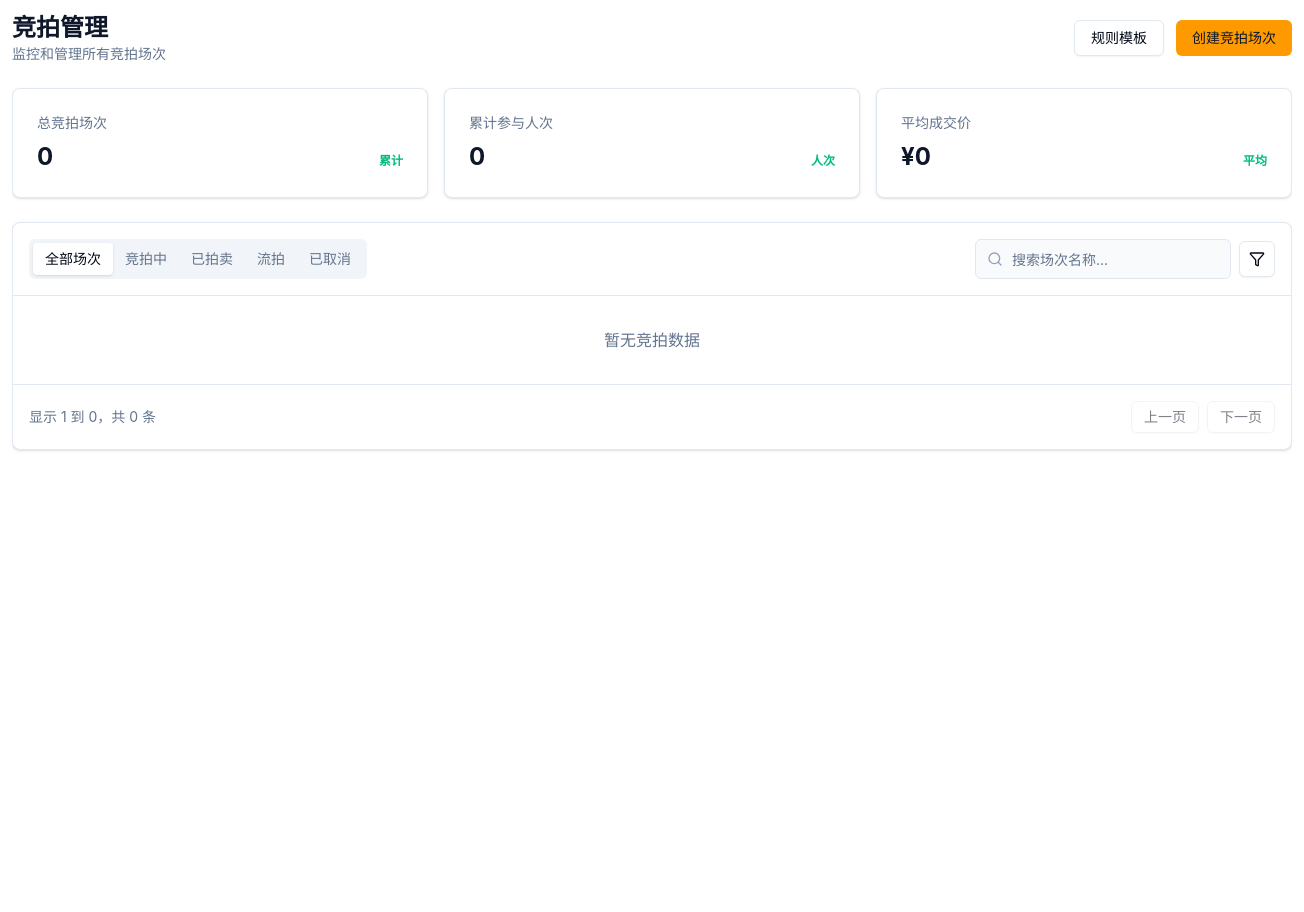
Test: AuctionList create auction with rule template › shows empty schedulable products state
The width and height of the screenshot is (1304, 912).
Click the button "创建竞拍场次".
click(1234, 38)  # box x1=1176 y1=20 x2=1292 y2=56
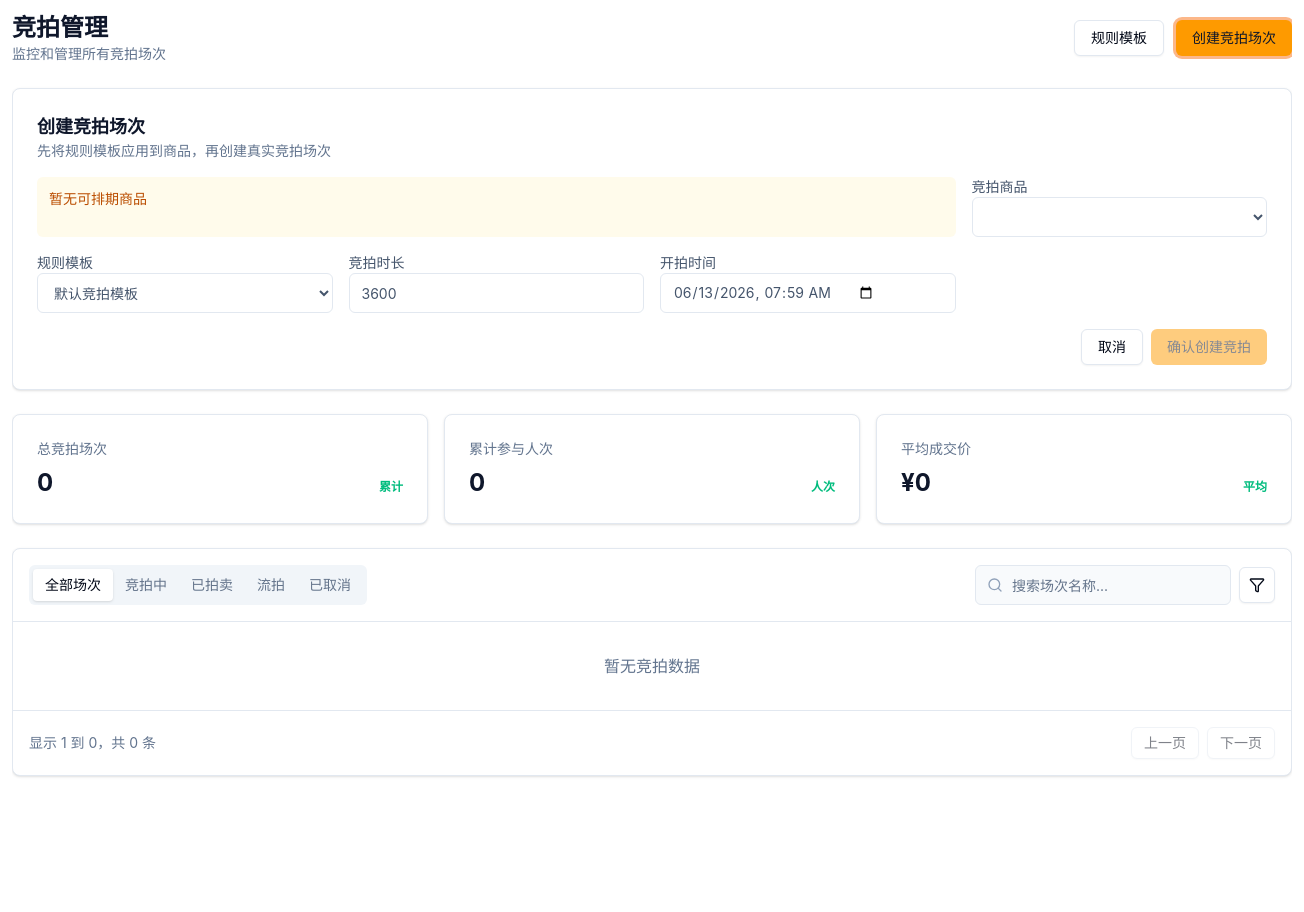
Expected: the text "暂无可排期商品" is shown, x1=37 y1=177 x2=956 y2=237
Expected: the button "确认创建竞拍" is disabled, x1=1151 y1=329 x2=1267 y2=365
